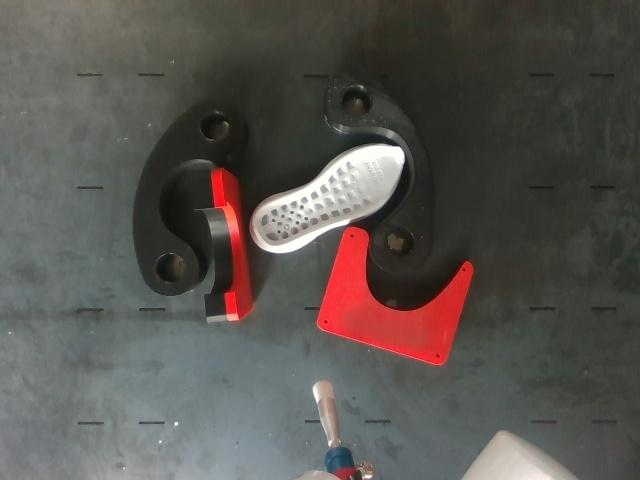shoes: (254, 146, 404, 246)
